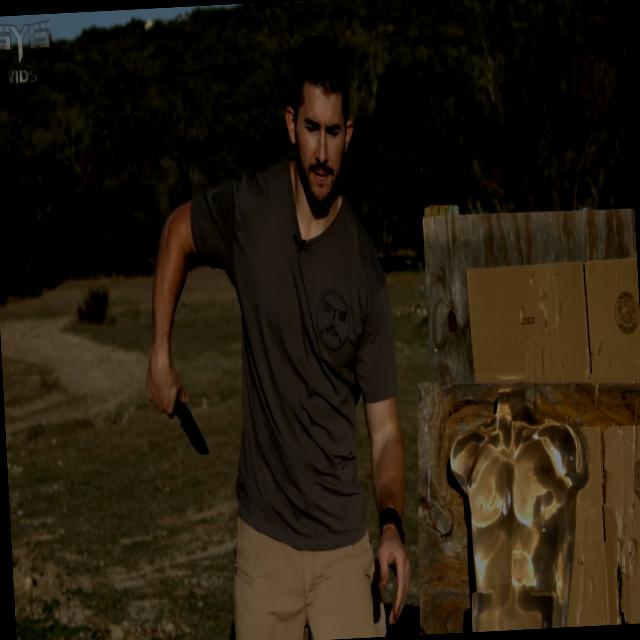knife: (138, 358, 211, 467)
